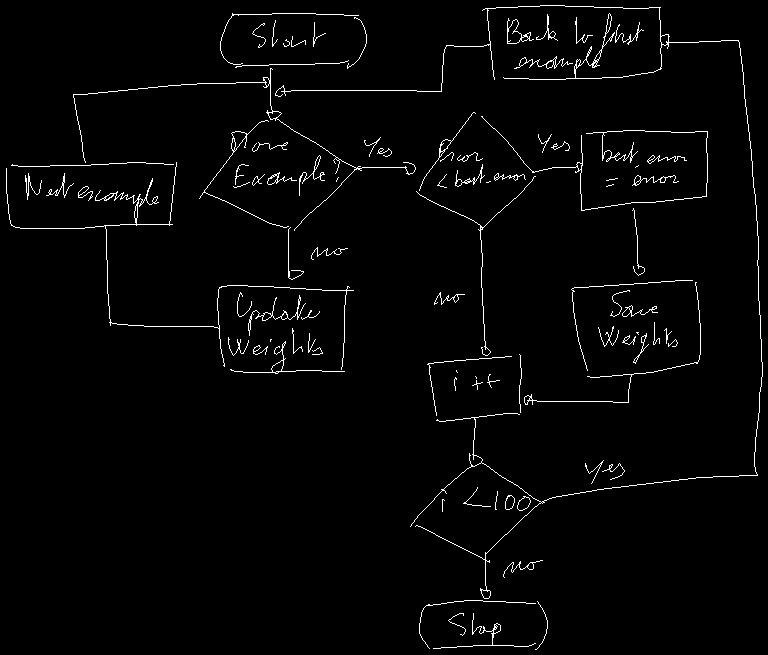arrow: (542, 34, 762, 502), (73, 77, 269, 162), (105, 226, 218, 328), (275, 44, 489, 96), (524, 374, 631, 404), (480, 226, 490, 355), (632, 208, 644, 275), (288, 227, 303, 279), (266, 68, 281, 119), (354, 162, 415, 174), (469, 417, 482, 466), (532, 162, 582, 172), (480, 552, 490, 598)
decision: (199, 118, 361, 230), (416, 112, 535, 230), (410, 463, 544, 562)
process: (482, 5, 661, 79), (571, 280, 700, 377), (217, 285, 353, 372), (6, 162, 176, 228), (580, 130, 707, 210), (427, 354, 521, 421)
terminator: (220, 13, 366, 68), (419, 600, 547, 649)
text: (507, 13, 643, 77), (228, 292, 322, 373), (25, 173, 158, 225), (231, 131, 339, 195), (598, 290, 677, 363), (602, 133, 686, 186), (437, 139, 525, 187), (441, 487, 530, 511), (252, 20, 325, 47), (448, 613, 500, 645), (454, 370, 499, 390), (585, 460, 624, 483), (503, 560, 542, 577), (538, 134, 569, 152), (364, 137, 391, 156), (311, 247, 347, 259), (434, 292, 464, 304)
